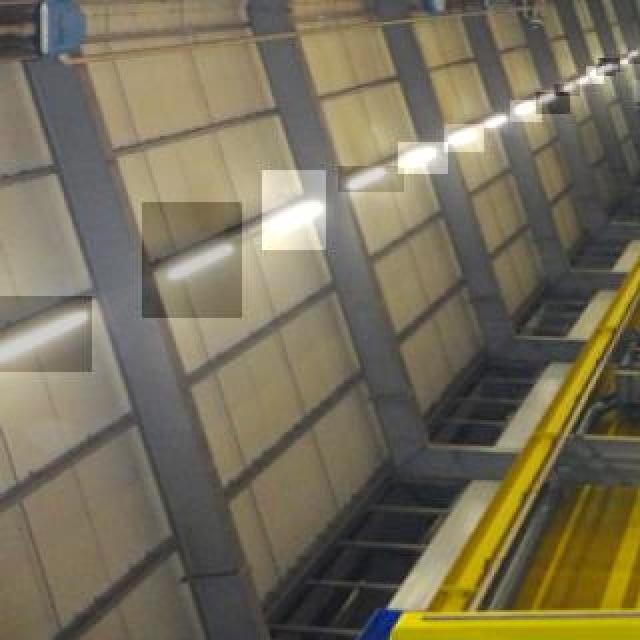fluorescent tube: (4, 302, 91, 376), (147, 238, 233, 293), (264, 191, 331, 249), (441, 124, 483, 158), (391, 149, 447, 173), (351, 163, 387, 194)
